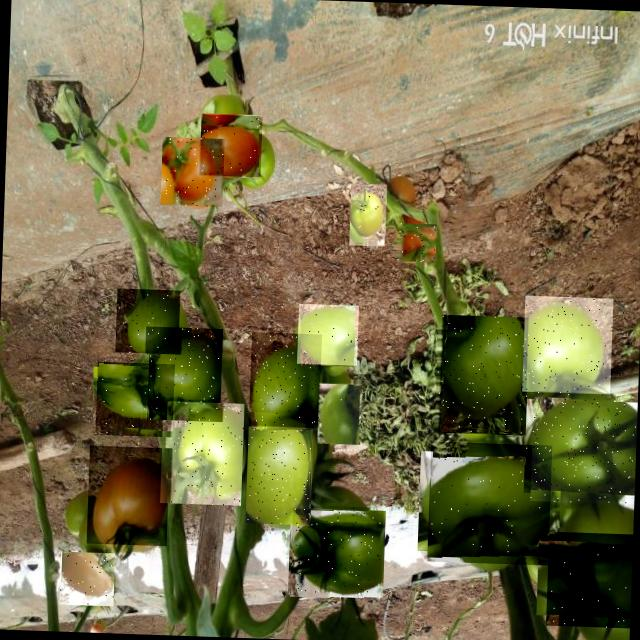Ripe Tomato: (86, 445, 169, 546), (160, 136, 223, 206), (199, 114, 262, 177), (59, 551, 115, 606), (397, 223, 436, 262)
Unripe Tomato: (426, 441, 552, 565), (530, 390, 638, 504), (434, 314, 528, 435), (522, 295, 613, 394), (290, 504, 384, 599), (160, 400, 244, 506), (546, 531, 632, 628), (245, 412, 314, 524), (143, 326, 222, 422), (248, 332, 321, 425), (95, 362, 170, 436), (115, 288, 180, 354), (296, 304, 358, 366), (317, 378, 362, 444), (348, 182, 386, 245)
